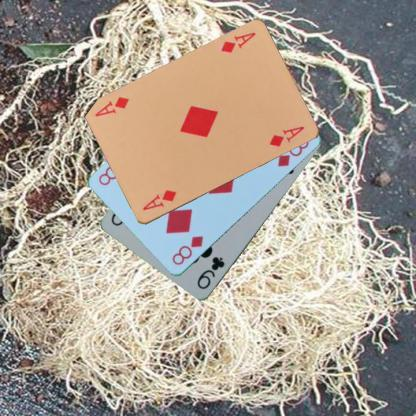8d: (170, 233, 204, 267)
9c: (194, 254, 226, 291)
Ad: (217, 30, 257, 55), (140, 187, 178, 212)
